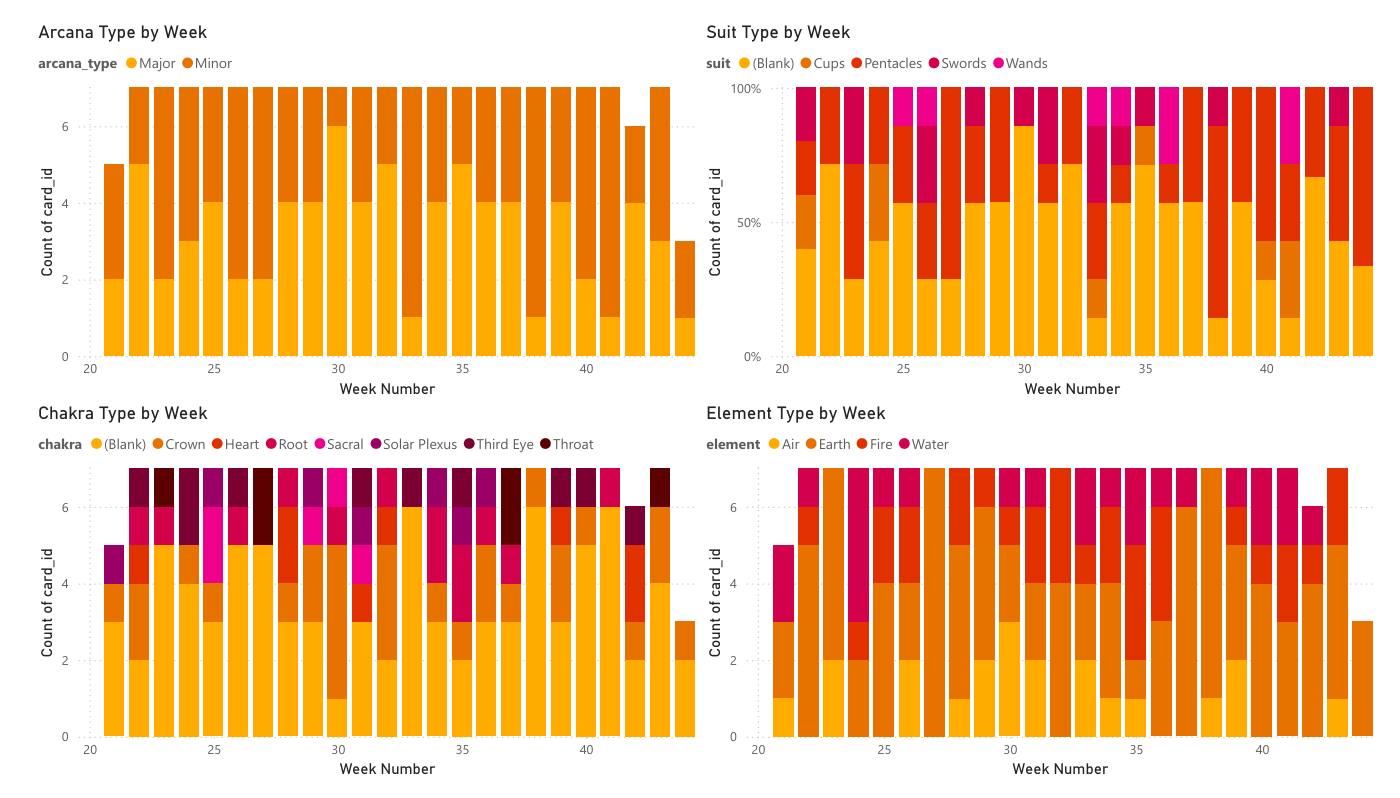

What the dashboard file says about the page in this screenshot:
{"tool":"powerbi","page":{"name":"Trends","canvas":[1280,720],"ordinal":1},"visuals":[{"type":"columnChart","title":"Arcana Type by Week","fields":{"Category":["tarot_draws.Week Number"],"Series":["tarot_cards.arcana_type"],"Y":["CountNonNull(tarot_draws.card_id)"]},"box":[9.2,0,630.3,360],"z":0},{"type":"columnChart","title":"Chakra Type by Week","fields":{"Category":["tarot_draws.Week Number"],"Series":["chakras.chakra"],"Y":["CountNonNull(tarot_draws.card_id)"]},"box":[9.2,360,630.3,360],"z":1},{"type":"columnChart","title":"Element Type by Week","fields":{"Series":["elements.element"],"Y":["CountNonNull(tarot_draws.card_id)"],"Category":["tarot_draws.Week Number"]},"box":[639.5,360,640.7,360],"z":2},{"type":"hundredPercentStackedColumnChart","title":"Suit Type by Week","fields":{"Category":["tarot_draws.Week Number"],"Series":["suits.suit"],"Y":["CountNonNull(tarot_draws.card_id)"]},"box":[640,0,640,360],"z":3}]}

Visuals, with their boxes in screenshot pixels (x1, y1, x2, y2), scaled from the page's 1280x720 canvas onto the 1400x798 screenshot:
"Arcana Type by Week" columnChart: Rect(10, 0, 699, 399)
"Chakra Type by Week" columnChart: Rect(10, 399, 699, 797)
"Element Type by Week" columnChart: Rect(699, 399, 1399, 797)
"Suit Type by Week" hundredPercentStackedColumnChart: Rect(700, 0, 1399, 399)
